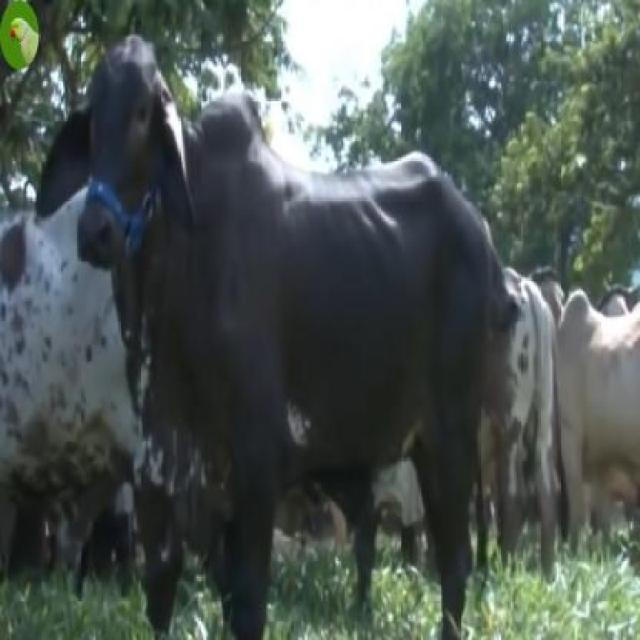Cow: (38, 36, 491, 638)
